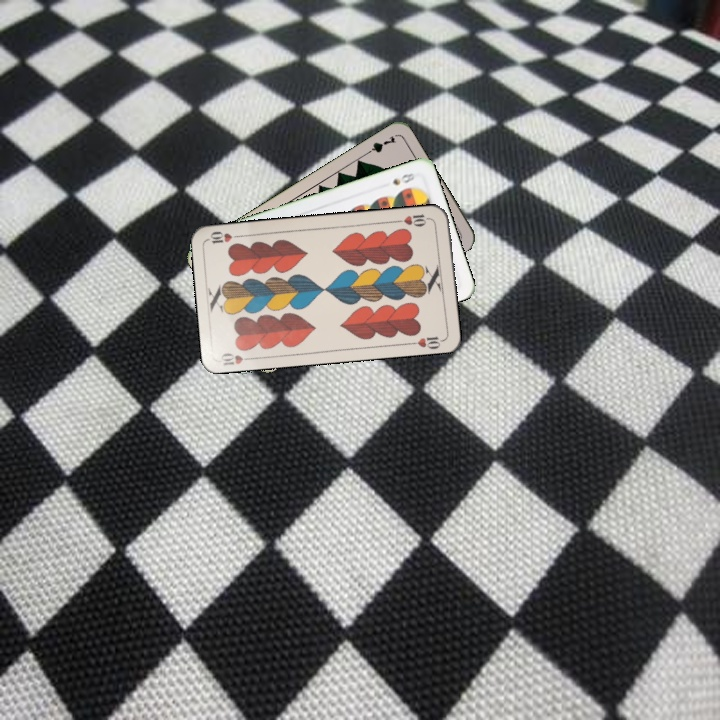G7: (360, 132, 399, 158)
H10: (393, 210, 434, 229), (216, 349, 257, 368)
S8: (388, 169, 419, 188)
